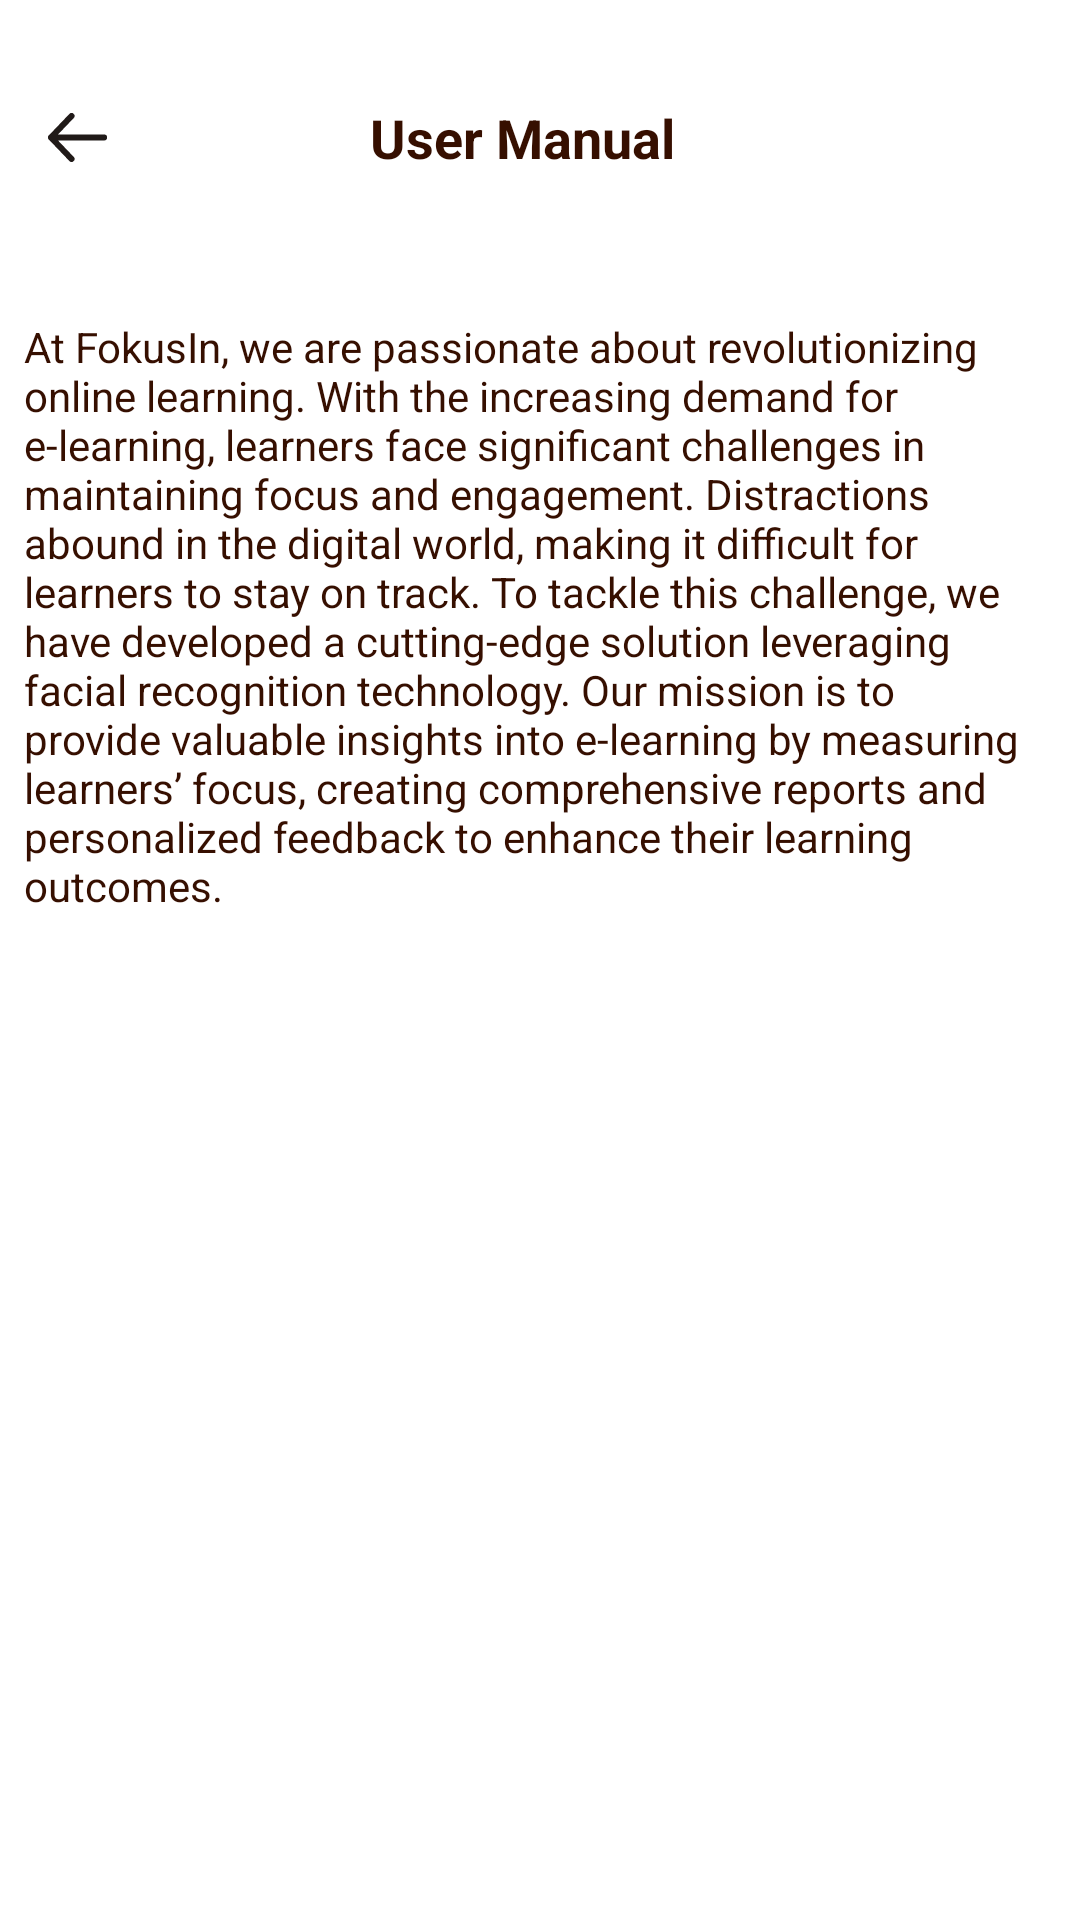

Point at icon controls on the screen. Image size 1080*1920, points as [x,y].
bek: [77,137]
